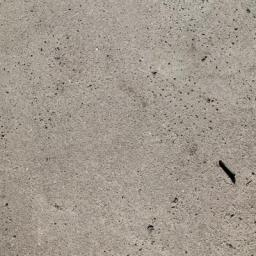FOD: (214, 154, 240, 186)
